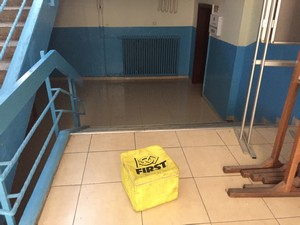cube: (120, 145, 180, 208)
